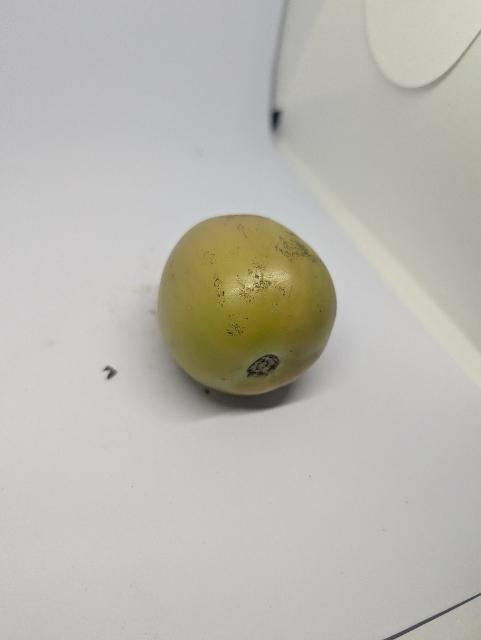breaker: (153, 211, 346, 398)
